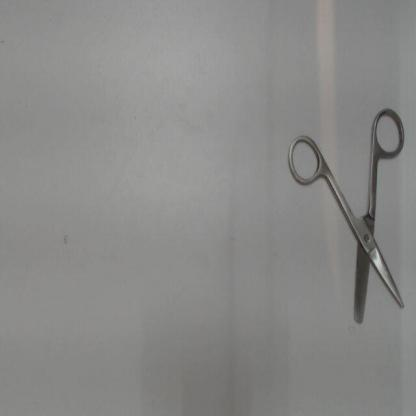Dressing Scissors: (282, 103, 412, 331)
